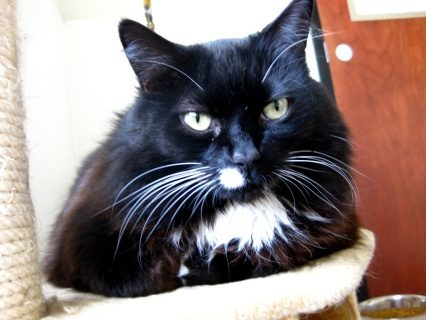Cat: (38, 0, 378, 298)
